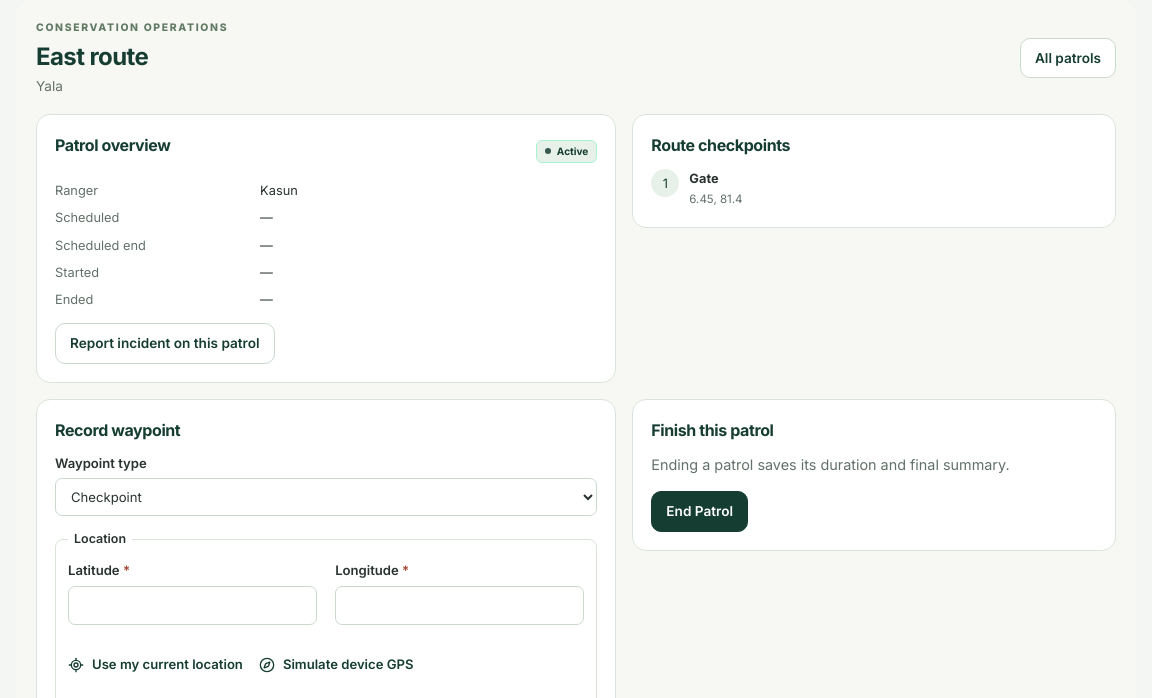
Test: requires confirmation before completing a patrol and synchronizes first
Click the button "End Patrol".
click(700, 511)  # box x1=651 y1=491 x2=748 y2=532
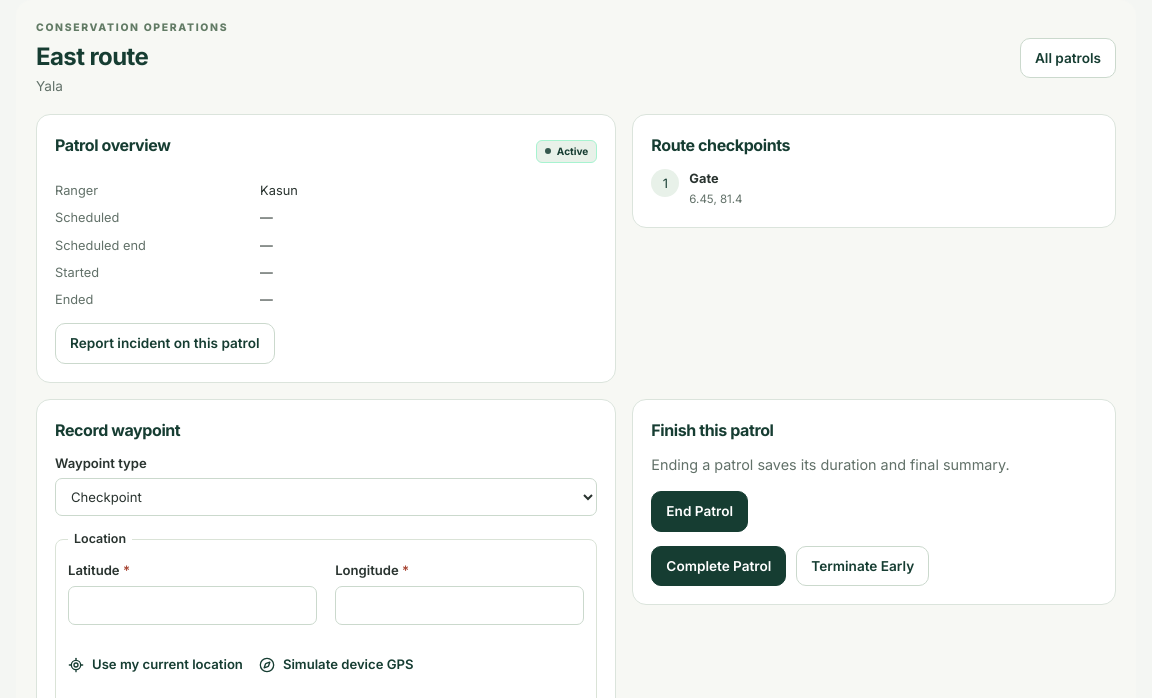
Click the button "Complete Patrol".
click(719, 566)  # box x1=651 y1=546 x2=786 y2=586
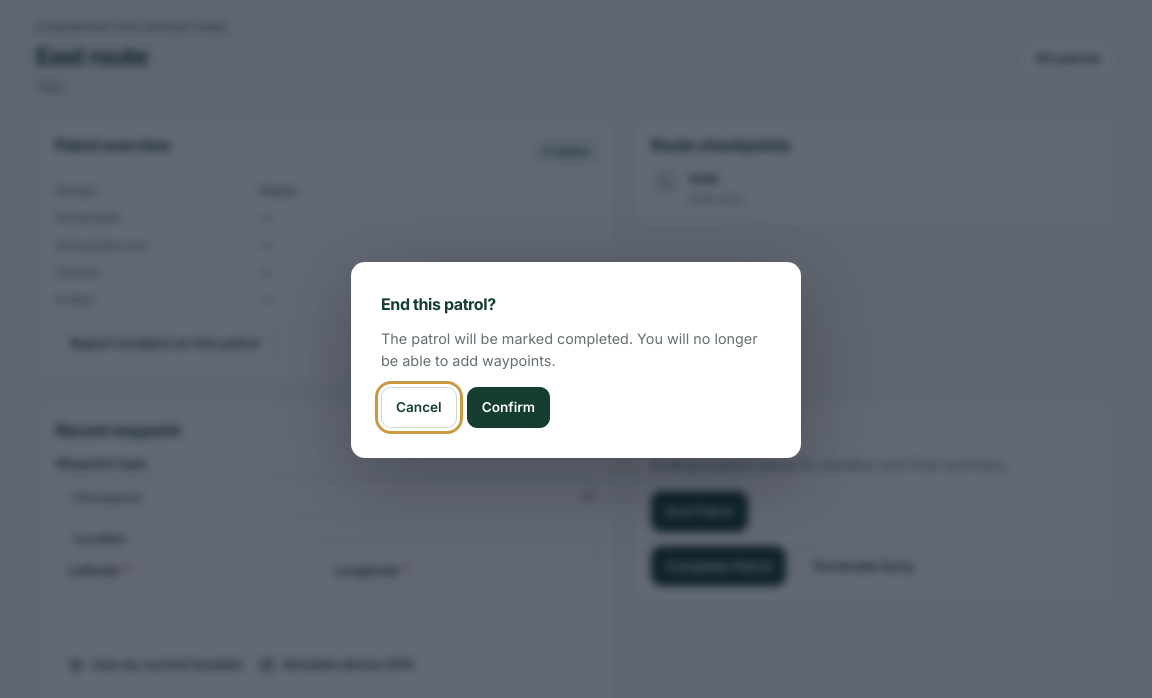
Press Escape in the dialog, box x1=351 y1=262 x2=801 y2=458
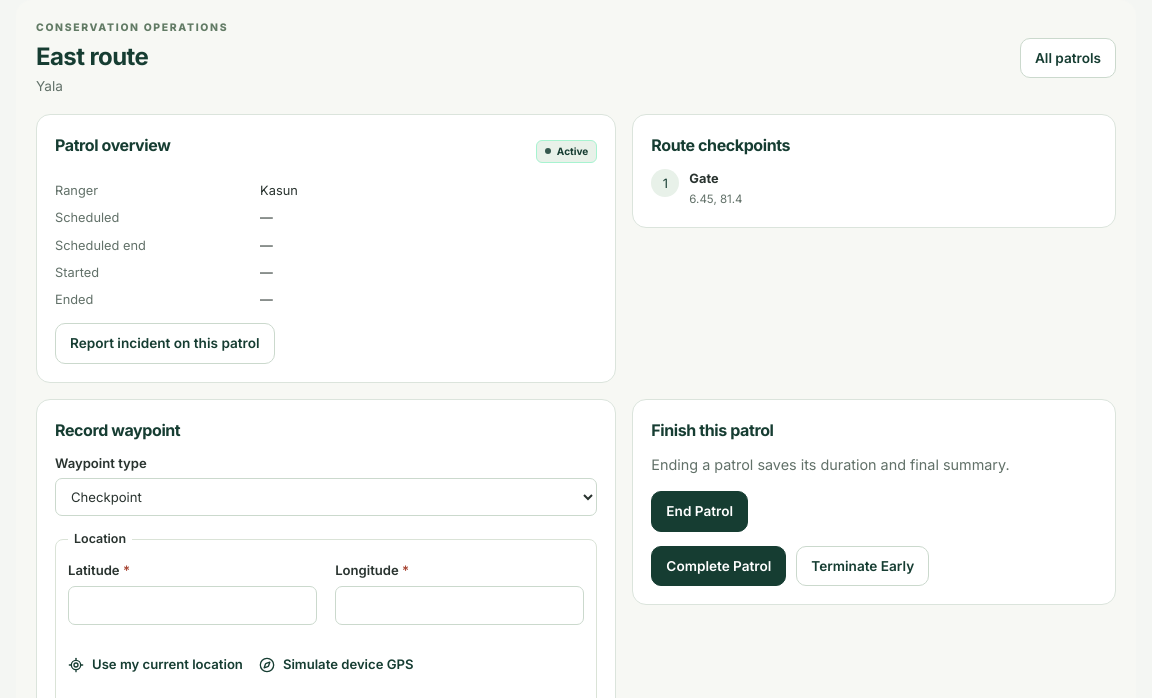
Click the button "Complete Patrol".
click(719, 566)  # box x1=651 y1=546 x2=786 y2=586
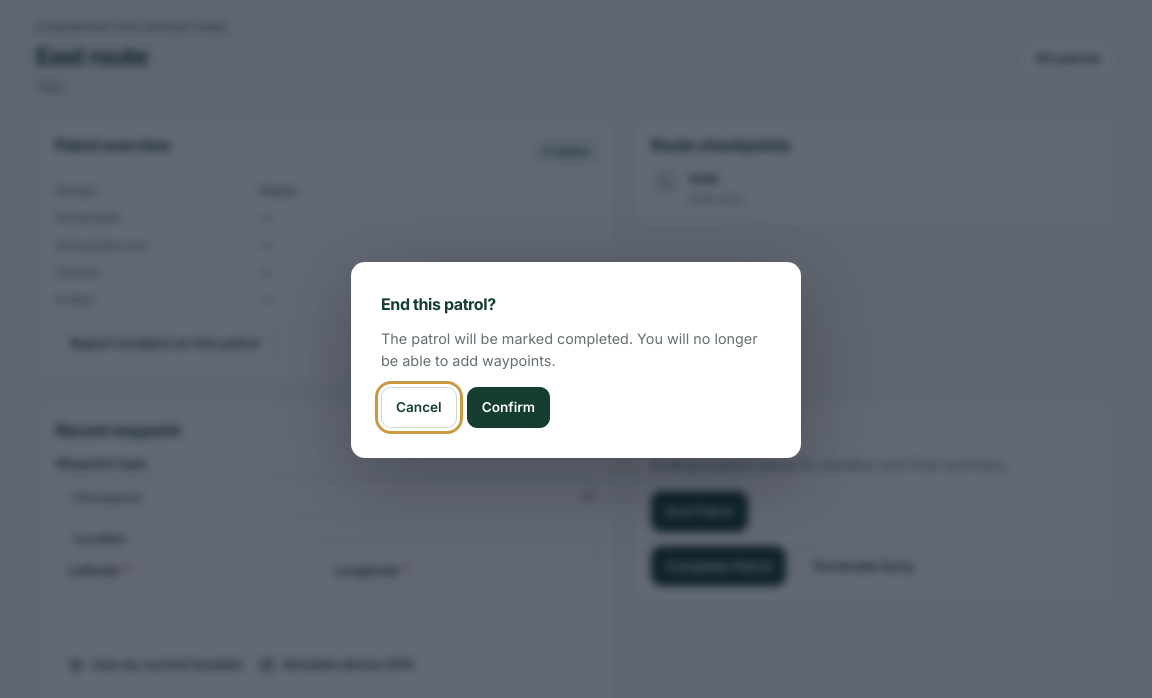
Click the button "Confirm".
click(508, 408)  # box x1=467 y1=387 x2=550 y2=428
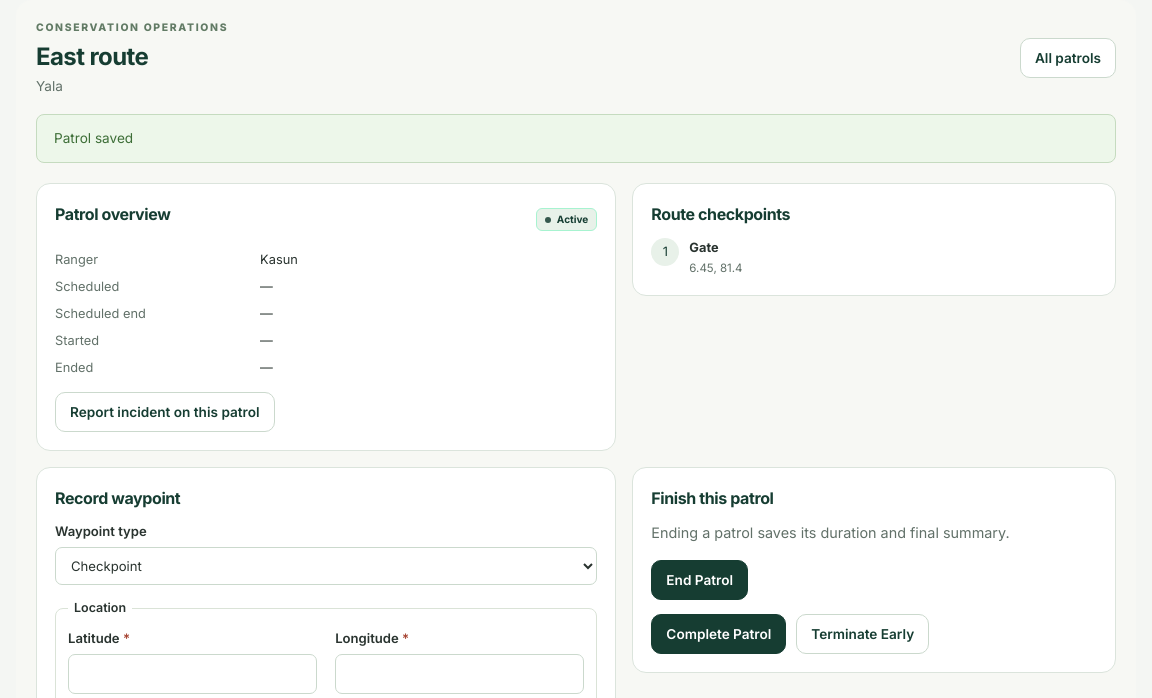
Expected: the text "Patrol saved" is shown, x1=36 y1=114 x2=1116 y2=163
